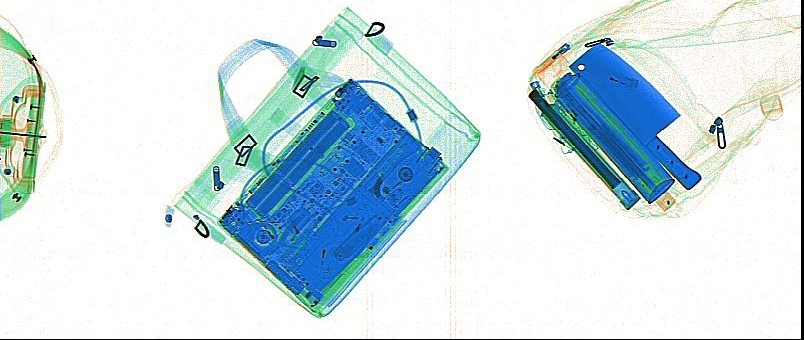knife: (286, 131, 419, 290), (567, 41, 700, 188), (332, 214, 385, 261)
lighter: (532, 41, 570, 71)
pressure: (534, 51, 673, 204)
